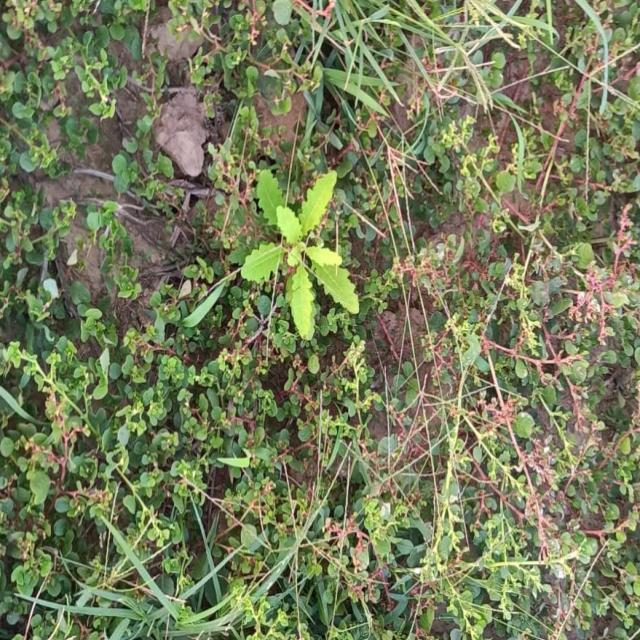weed: (241, 170, 360, 339)
